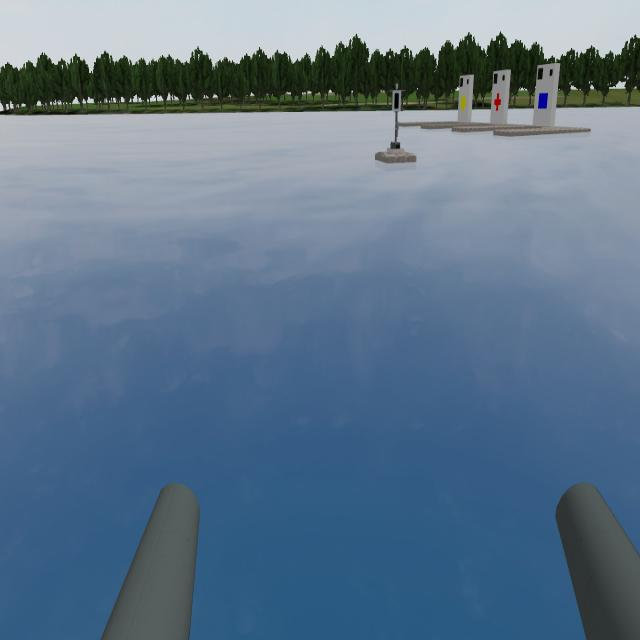black_pole: (389, 80, 407, 117)
